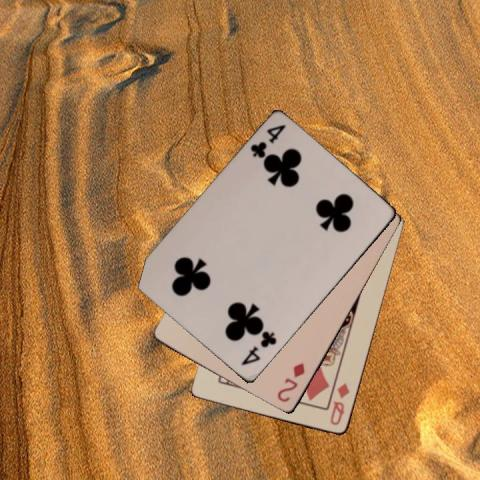2d: (274, 360, 307, 404)
4c: (248, 121, 287, 161), (239, 329, 278, 367)
Qd: (328, 380, 352, 427)
